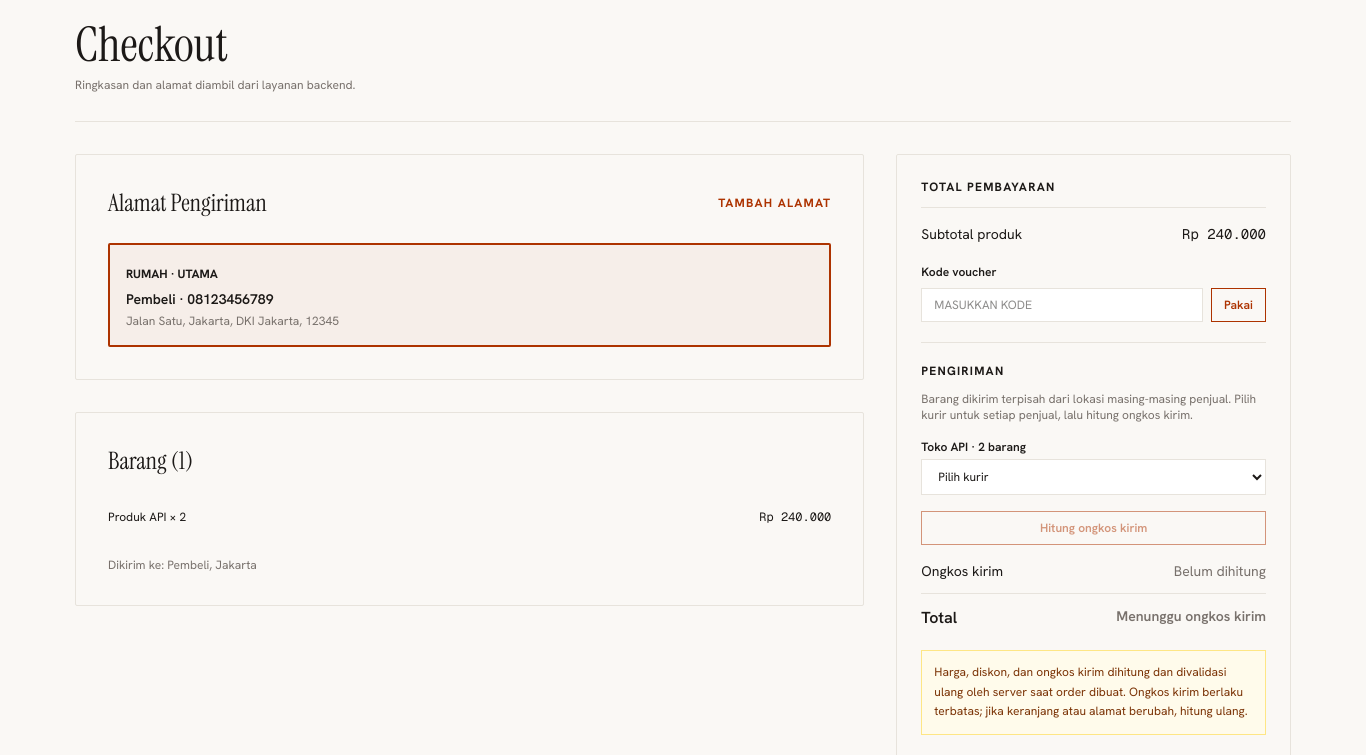
Test: CheckoutPage › clears the quote when the server rejects the order
Select "JNE — REG" in the dropdown at (1094,477), box [921,459,1266,495]
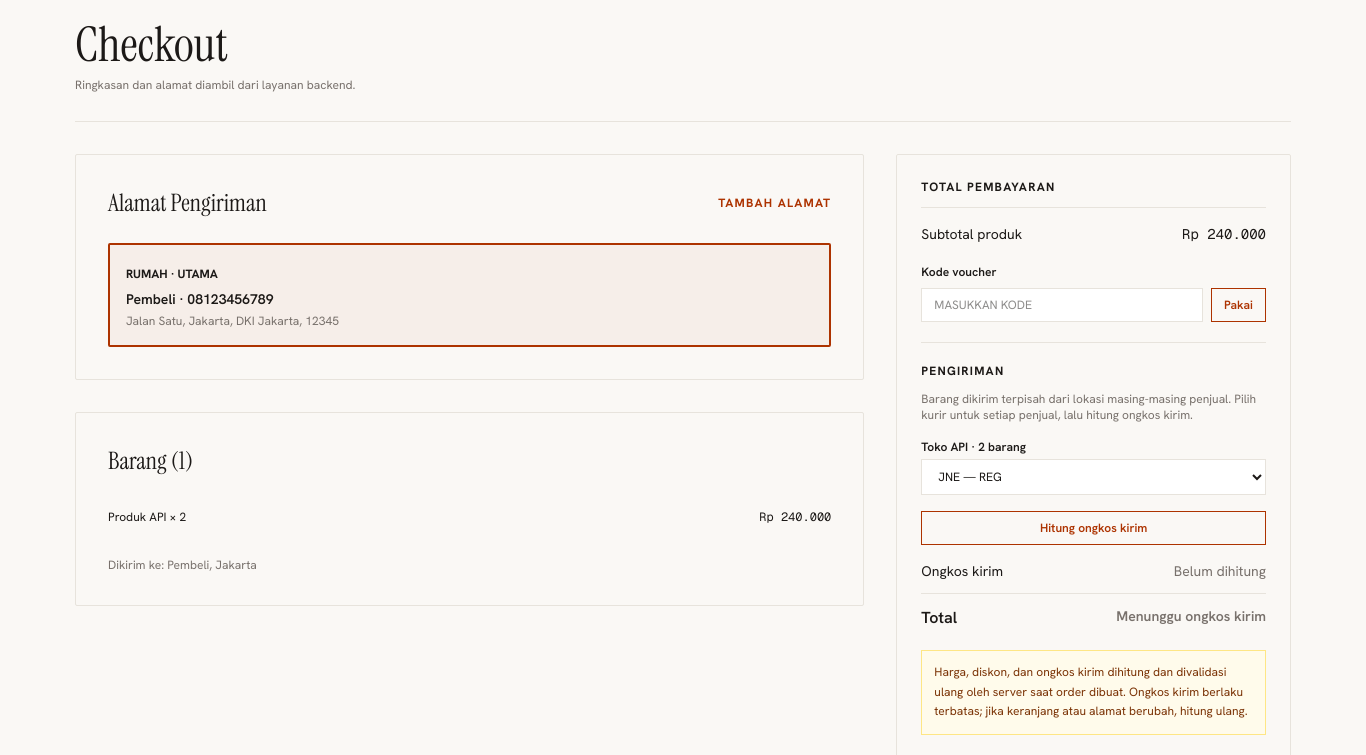
Click the button "Hitung ongkos kirim" at (1094,528), box [921,511,1266,545]
(page scrolled)
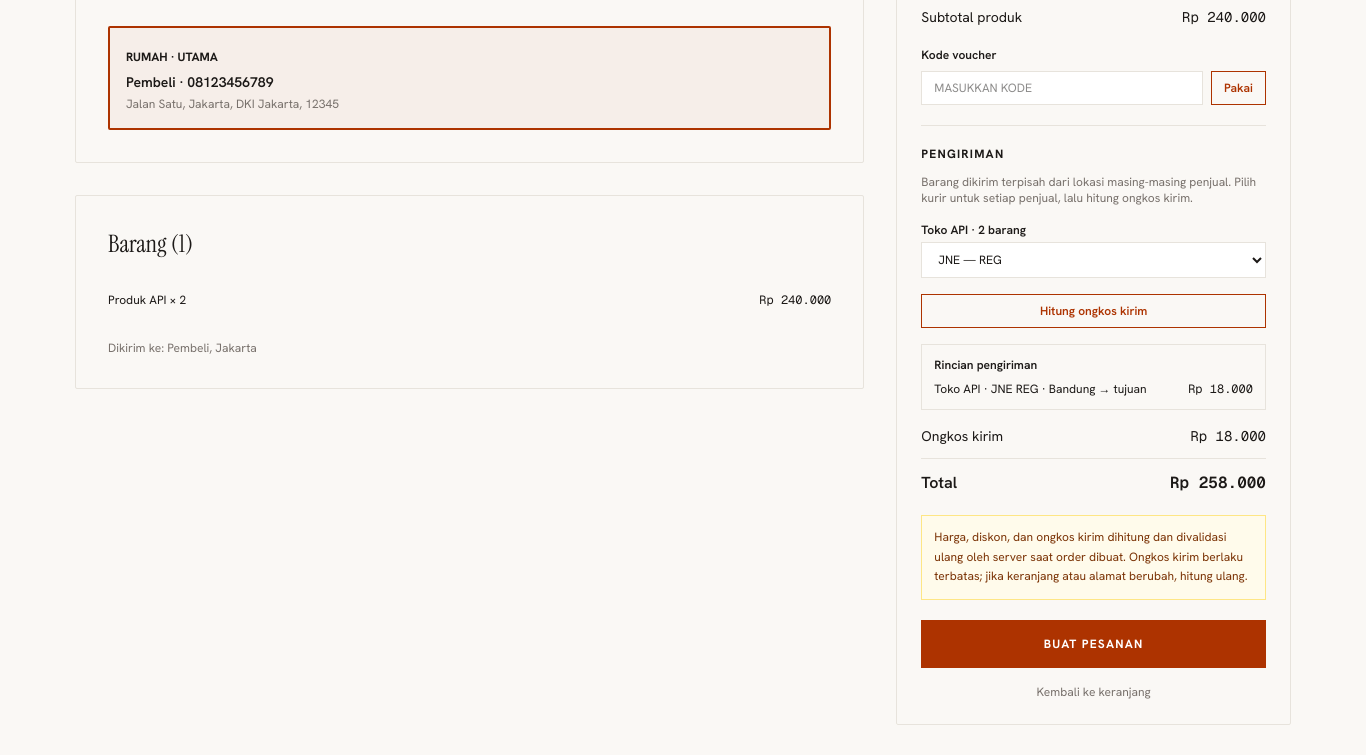
Click the button "Buat Pesanan" at (1094,644), box [921,620,1266,668]
(page scrolled)
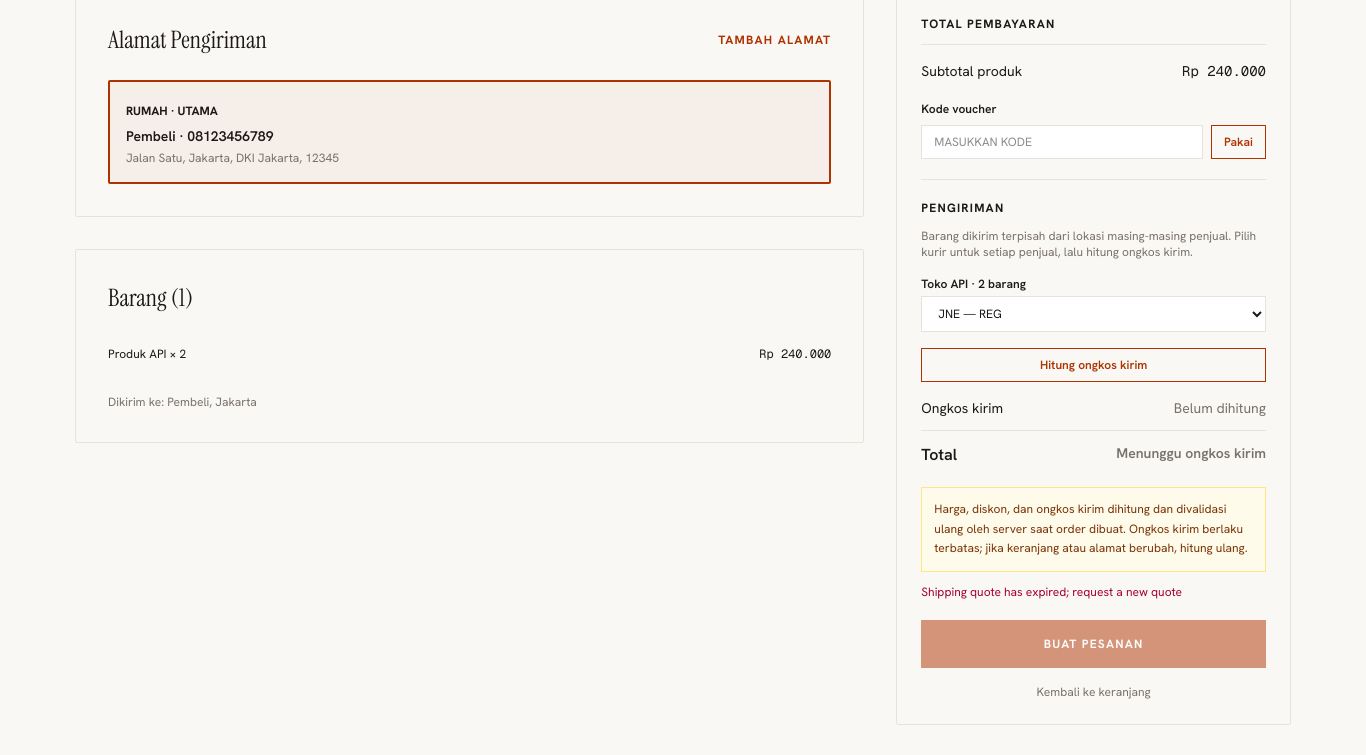
Now the text "Shipping quote has expired; request a new quote" is shown, box [921,584,1182,600]
Now the button "Buat Pesanan" is disabled, box [921,620,1266,668]
